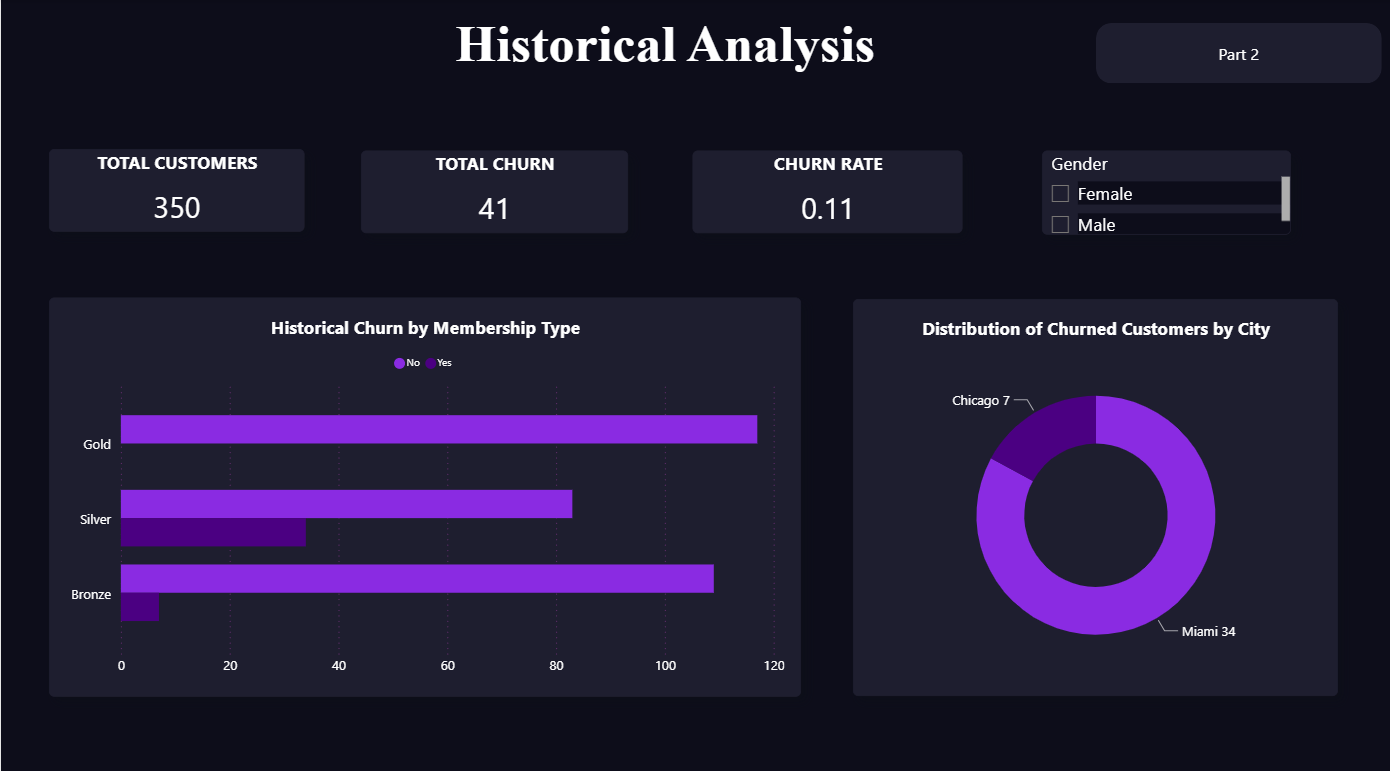

What the dashboard file says about the page in this screenshot:
{"tool":"powerbi","page":{"name":"Part 1","canvas":[1280,720],"ordinal":0},"visuals":[{"type":"card","title":"TOTAL CUSTOMERS","fields":{"Values":["Count(customer_data_with_predictions.Customer ID)"]},"box":[43.9,137.8,234.7,75.7],"z":0},{"type":"card","title":"TOTAL CHURN","fields":{"Values":["CountNonNull(customer_data_with_predictions.Churn)"]},"box":[330.1,139.3,245.3,75.7],"z":1000},{"type":"card","title":"CHURN RATE","fields":{"Values":["Avg(customer_data_with_predictions.Churn_Probability)"]},"box":[634.5,139.3,248.3,75.7],"z":2000},{"type":"clusteredBarChart","title":"Historical Churn by Membership Type","fields":{"Category":["customer_data_with_predictions.Membership Type"],"Y":["CountNonNull(customer_data_with_predictions.Customer ID)"],"Series":["customer_data_with_predictions.Churn"]},"box":[43.9,274.1,690.5,366.4],"z":3000},{"type":"donutChart","title":"Distribution of Churned Customers by City","fields":{"Category":["customer_data_with_predictions.City"],"Y":["CountNonNull(customer_data_with_predictions.Customer ID)"]},"box":[782.8,275.6,445.2,364.9],"z":4000},{"type":"textbox","box":[418,14,432,72],"z":5000},{"type":"slicer","fields":{"Values":["customer_data_with_predictions.Gender"]},"box":[955.5,139.3,228.6,77.2],"z":6000},{"type":"actionButton","box":[1005.9,21.9,262.4,55.4],"z":7000}]}

Visuals, with their boxes in screenshot pixels (x1, y1, x2, y2), scaled from the page's 1280x720 canvas onto the 1390x771 screenshot:
"TOTAL CUSTOMERS" card: 48:148:303:229
"TOTAL CHURN" card: 358:149:625:230
"CHURN RATE" card: 689:149:959:230
"Historical Churn by Membership Type" clusteredBarChart: 48:294:798:686
"Distribution of Churned Customers by City" donutChart: 850:295:1334:686
textbox: 454:15:923:92
slicer - customer_data_with_predictions.Gender: 1038:149:1286:232
actionButton: 1092:23:1377:83
